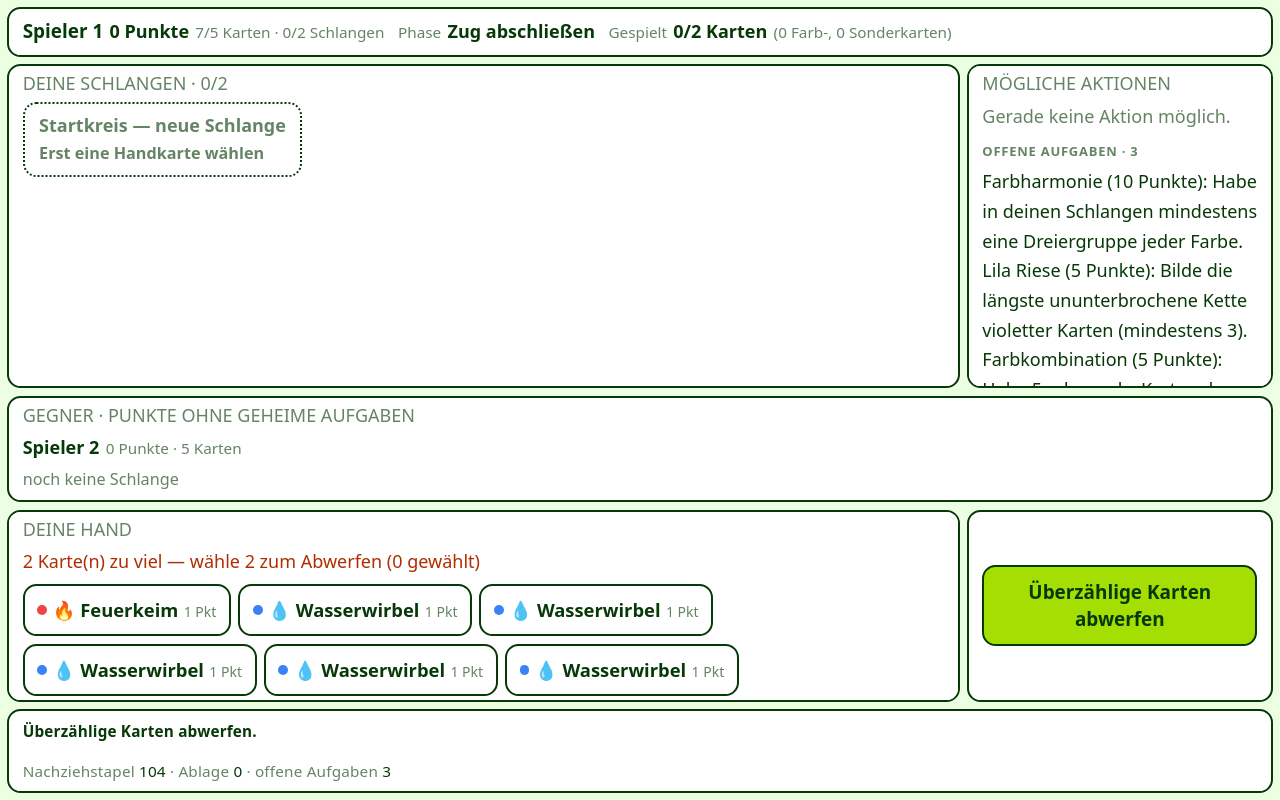
Test: Handleiste — Überhand abwerfen › gibt den Knopf frei, sobald genau so viele Karten markiert sind
This screenshot has width=1280, height=800.
Click the button with aria-label "Karte 1 von": (127, 610) x1=23 y1=584 x2=231 y2=636
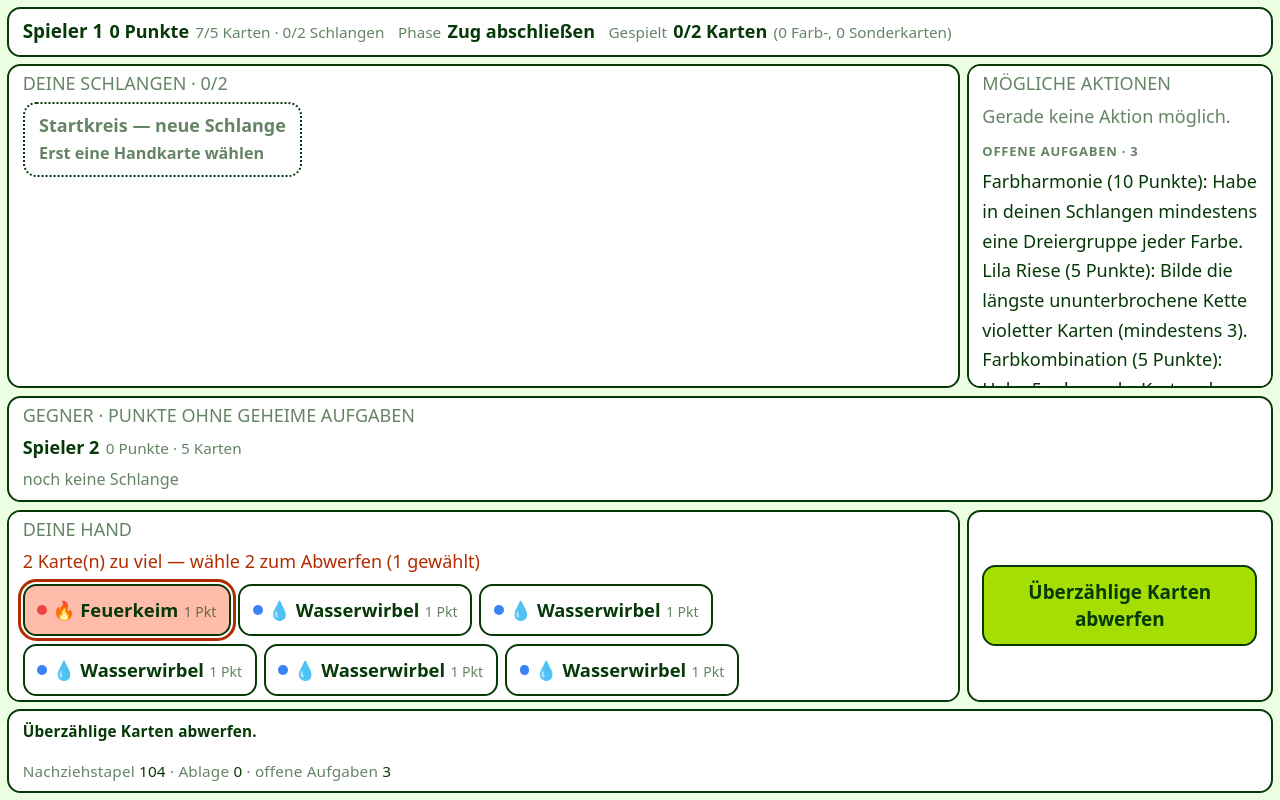
Click the button with aria-label "Karte 2 von": (355, 610) x1=238 y1=584 x2=472 y2=636
(page scrolled)
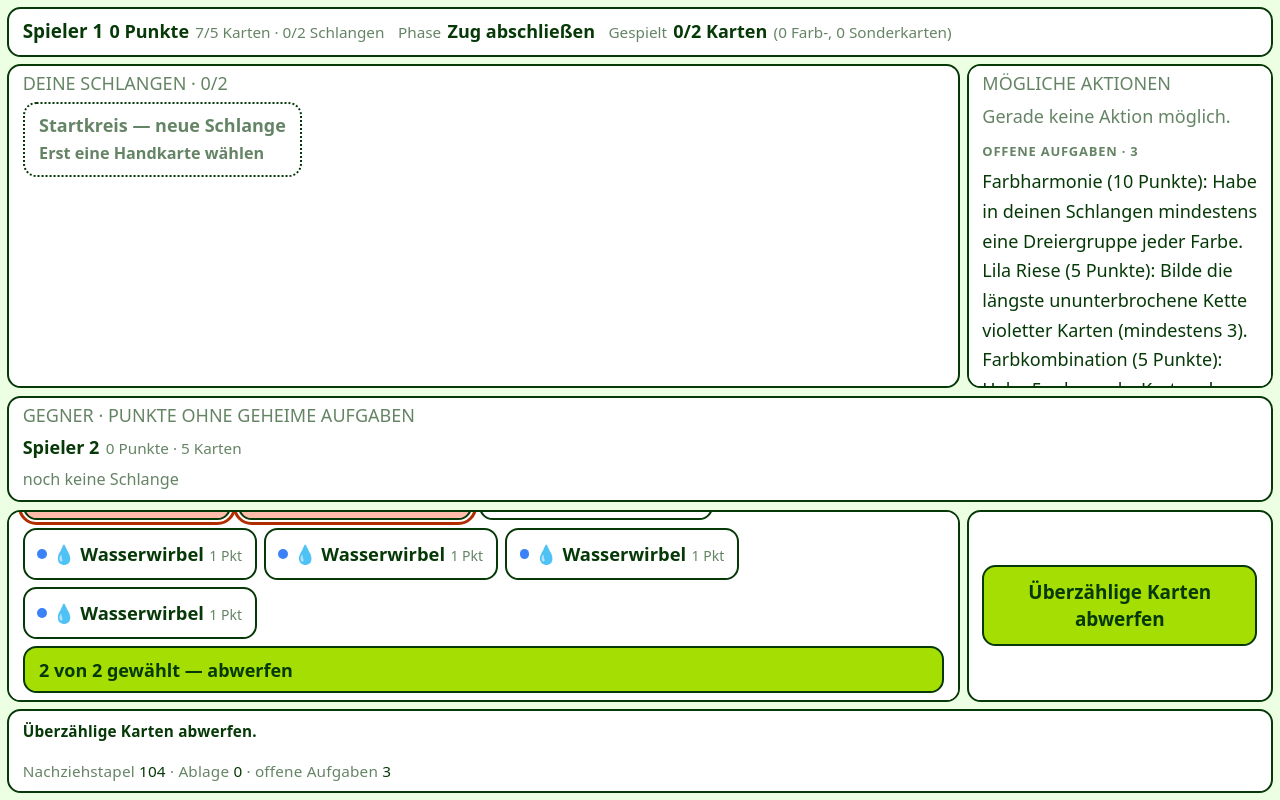
Expected: the button "2 von 2 gewählt — abwerfen" is enabled, x1=23 y1=646 x2=944 y2=693
